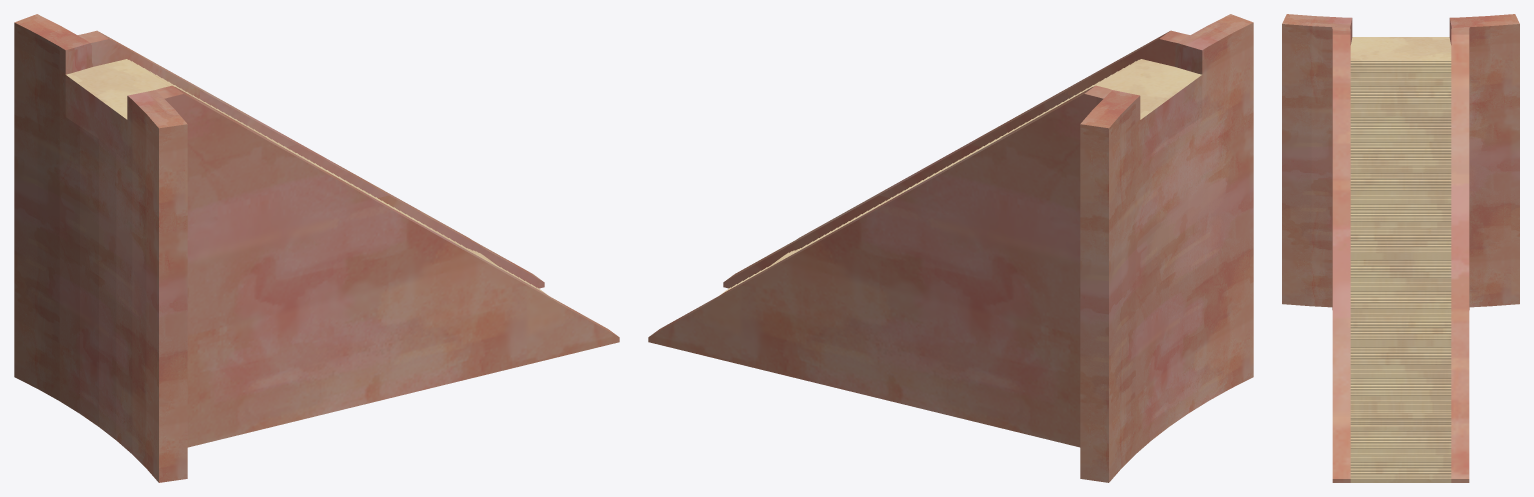
The model's file is stairs_bottom.fbx.
3 views of the same model, side by side, from view 1: azimuth 30°, elevation 25°; view 2: azimuth 150°, elevation 25°; view 3: azimuth 270°, elevation 25° (orthographic). The views are drawn at different scales.
Visible parts, largest first — view 1: _Based Fin.013; view 2: _Based Fin.013; view 3: _Based Fin.013.
Part boxes in pixels (left/top/right/bottom): _Based Fin.013: left=14, top=14, right=619, bottom=482; _Based Fin.013: left=648, top=14, right=1253, bottom=482; _Based Fin.013: left=1282, top=14, right=1519, bottom=482.
Bounding box in the file's own units: 13352 × 9329 × 7109.
